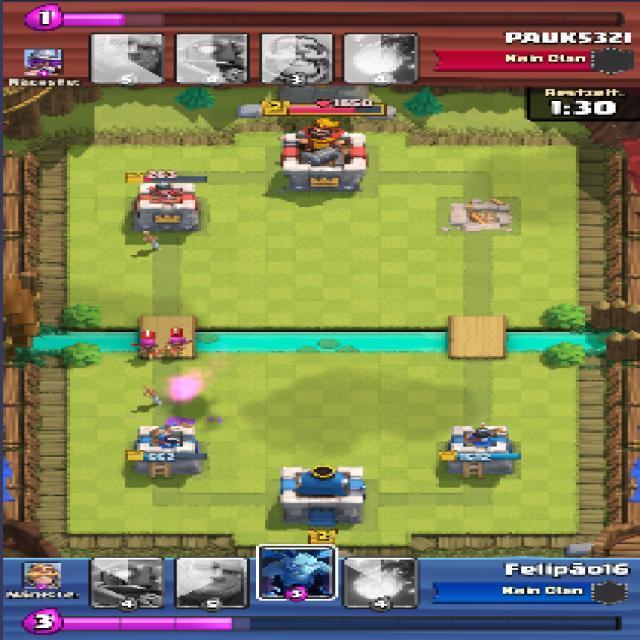Enemy-Archer: (129, 338, 161, 358), (167, 336, 192, 356)
